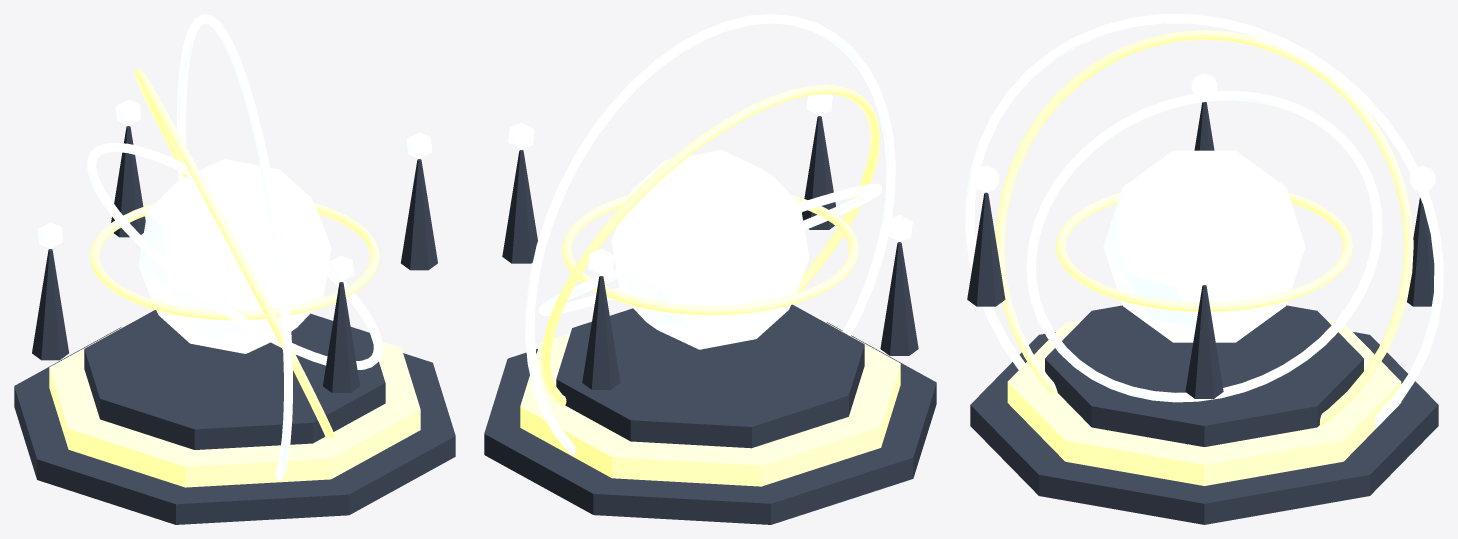
Rendered from gpu-blender-v49.glb.
3 views of the same model, side by side, from view 1: azimuth 30°, elevation 25°; view 2: azimuth 150°, elevation 25°; view 3: azimuth 270°, elevation 25° (orthographic). The views are drawn at different scales.
Parts seen in each view (by area): view 1: Cylinder.002, SovereignCore_hexstrike-arsenal, Cylinder, Cylinder.001, Torus.003, Torus.001, Torus.002, Torus, Cone, Cone.002, Cone.003, Cone.001 (+4 smaller); view 2: Cylinder.002, SovereignCore_hexstrike-arsenal, Cylinder, Cylinder.001, Torus.003, Torus.002, Torus, Torus.001, Cone.001, Cone.002, Cone, Cone.003 (+3 smaller); view 3: SovereignCore_hexstrike-arsenal, Cylinder.002, Cylinder, Cylinder.001, Torus.001, Torus.003, Torus.002, Torus, Cone.003, Cone, Cone.001, Cone.002 (+2 smaller).
Boxes of the visible parts, x1,y1,x2,y2 form: Cylinder.002: (84, 310, 385, 449); SovereignCore_hexstrike-arsenal: (138, 159, 331, 353); Cylinder: (14, 327, 455, 524); Cylinder.001: (49, 318, 420, 487); Torus.003: (177, 14, 292, 480); Torus.001: (87, 142, 382, 369); Torus.002: (134, 69, 334, 438); Torus: (90, 203, 379, 320); Cone: (401, 159, 437, 270); Cone.002: (32, 249, 68, 360); Cone.003: (323, 282, 359, 392); Cone.001: (111, 126, 145, 237); Cylinder.002: (556, 304, 864, 448); SovereignCore_hexstrike-arsenal: (611, 150, 809, 349); Cylinder: (484, 322, 936, 524); Cylinder.001: (520, 313, 900, 486); Torus.003: (525, 14, 895, 455); Torus.002: (541, 84, 879, 406); Torus: (562, 195, 858, 315); Torus.001: (539, 183, 881, 315); Cone.001: (582, 276, 620, 389); Cone.002: (880, 242, 918, 355); Cone: (502, 150, 537, 263); Cone.003: (802, 116, 835, 229); SovereignCore_hexstrike-arsenal: (1103, 150, 1305, 342); Cylinder.002: (1045, 305, 1363, 446); Cylinder: (970, 332, 1438, 524); Cylinder.001: (1007, 320, 1401, 485); Torus.001: (1026, 91, 1382, 402); Torus.003: (965, 14, 1443, 427); Torus.002: (995, 30, 1413, 426); Torus: (1056, 192, 1352, 311); Cone.003: (967, 192, 1005, 306); Cone: (1185, 285, 1223, 398); Cone.001: (1407, 197, 1434, 306); Cone.002: (1194, 102, 1214, 150).
Bounding box in the file's own units: 4.41 × 4.7 × 4.49.
